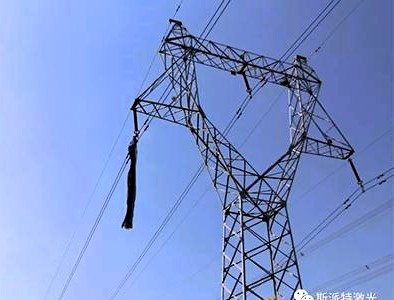wire foreign body: (119, 132, 148, 234)
